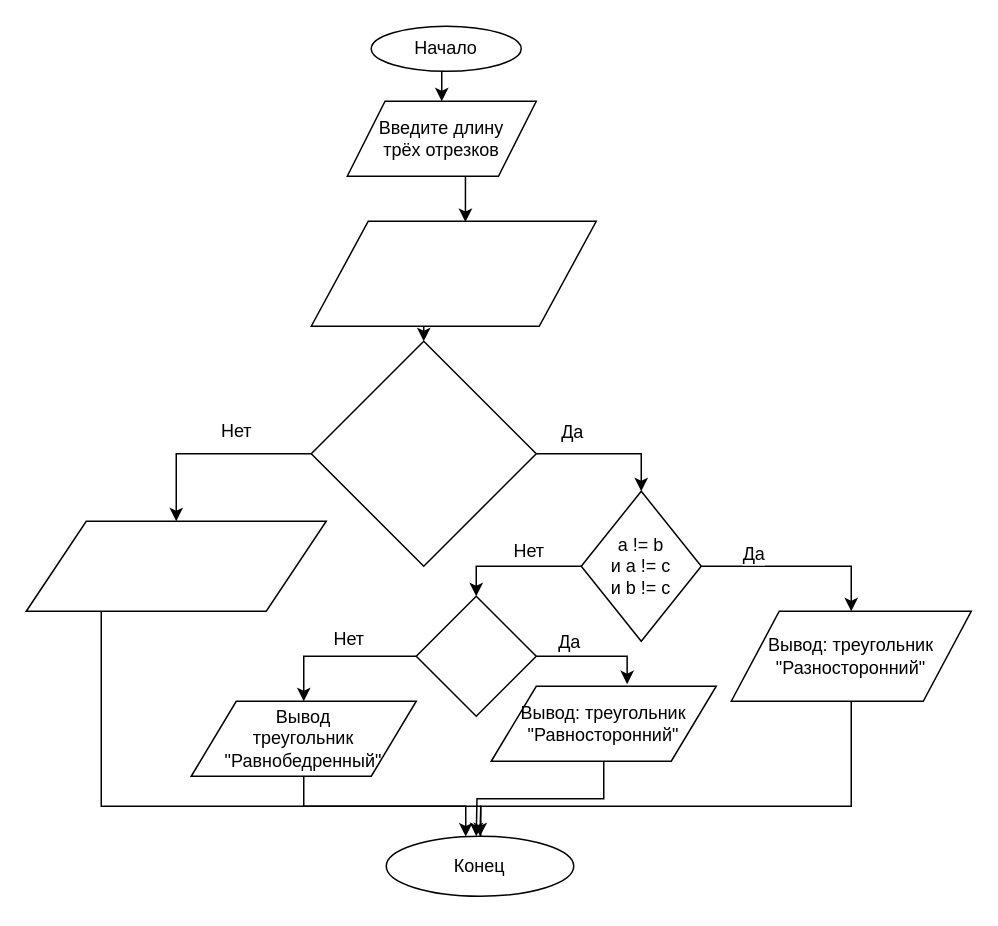
Image size: 998x926. Some labels were removed from this diagram. Each missing label, with the centre of its shape:
a == b == c: point (475, 655)
Ввод трёх отрезков и присвоение переменным a,b,c: point (453, 273)
Вывод: треугольник не существует: point (175, 565)
Треугольник существует: a + b <= c или a + c <= b или b + c <= a: point (423, 453)
